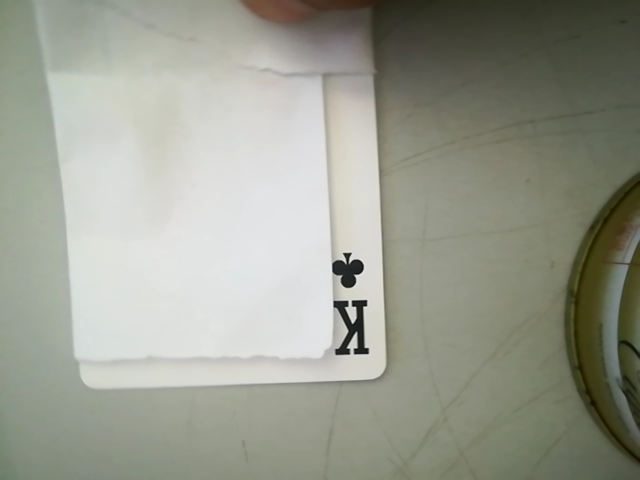mh k: (321, 239, 384, 368)
